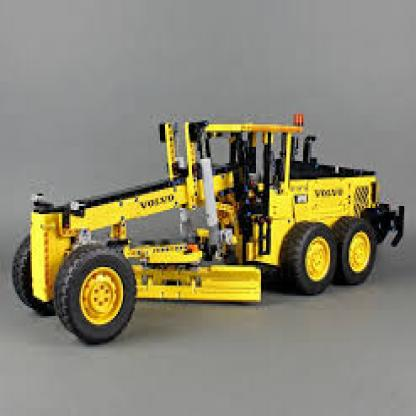bull_dozer/loader/grader: (24, 96, 414, 347)
